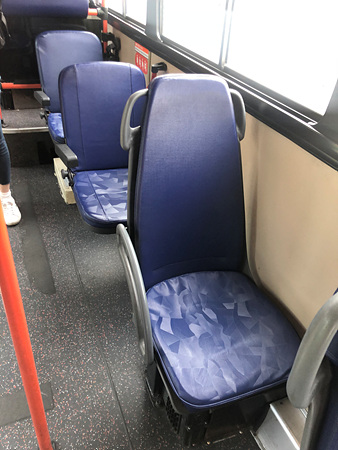seat: (124, 70, 303, 401)
